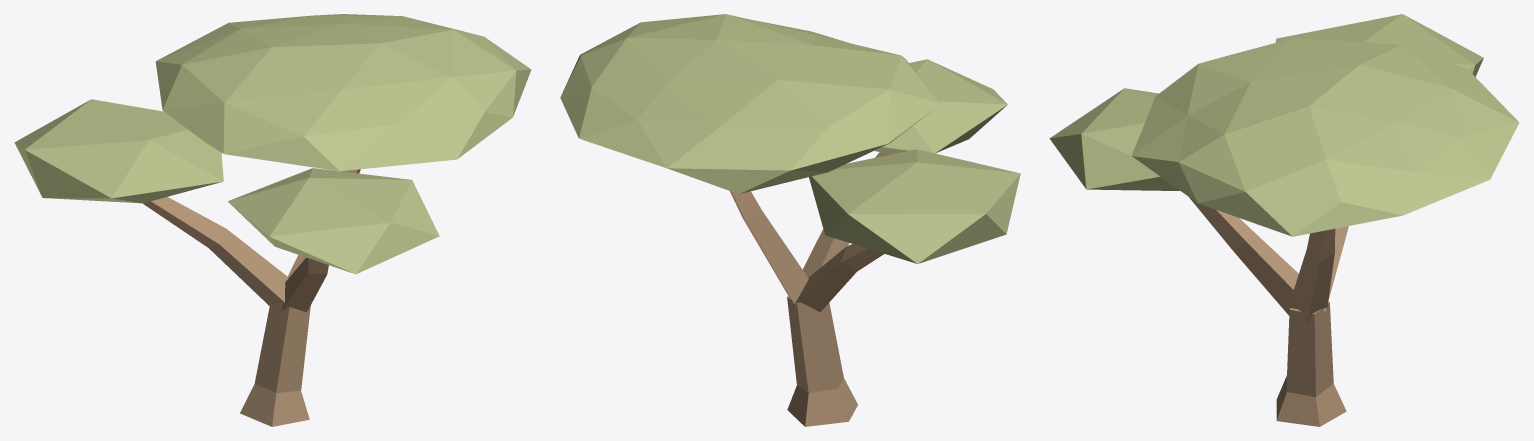
File: acacia.glb
The picture shows the model from 3 angles, left to right: view 1: azimuth 30°, elevation 25°; view 2: azimuth 150°, elevation 25°; view 3: azimuth 270°, elevation 25°; orthographic projection. The views are drawn at different scales.
Parts seen in each view (by area): view 1: tree_acacia; view 2: tree_acacia; view 3: tree_acacia.
Part boxes in pixels (box(x1,y1,x2,y2)): tree_acacia: box(14, 14, 531, 426); tree_acacia: box(560, 14, 1020, 426); tree_acacia: box(1049, 14, 1519, 426).
Size of the model in its own units: 0.8486 by 0.6124 by 0.727.
